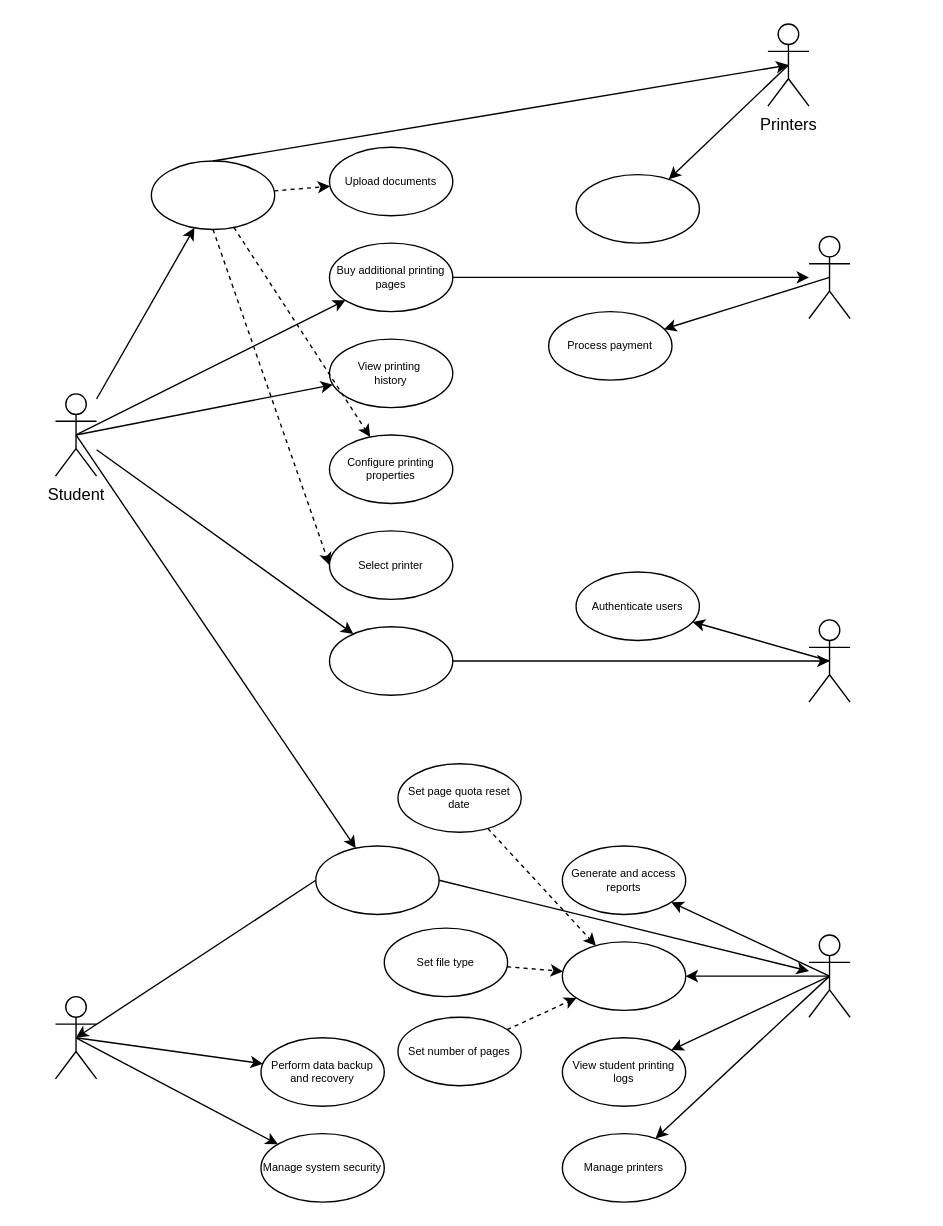
Image size: 943x1226. Some labels were removed from this diagram. Here are the shapes that lost their labels. From the top down, the centre of each, then its label:
At pixel 212 194: "print a document".
At pixel 637 208: "print".
At pixel 829 277: "BKPay".
At pixel 390 660: "Log in the system".
At pixel 829 660: "University's SSO service".
At pixel 376 879: "Tehcnical support".
At pixel 623 975: "Change system configuration".
At pixel 829 975: "SPSO".
At pixel 75 1037: "IT Department".
